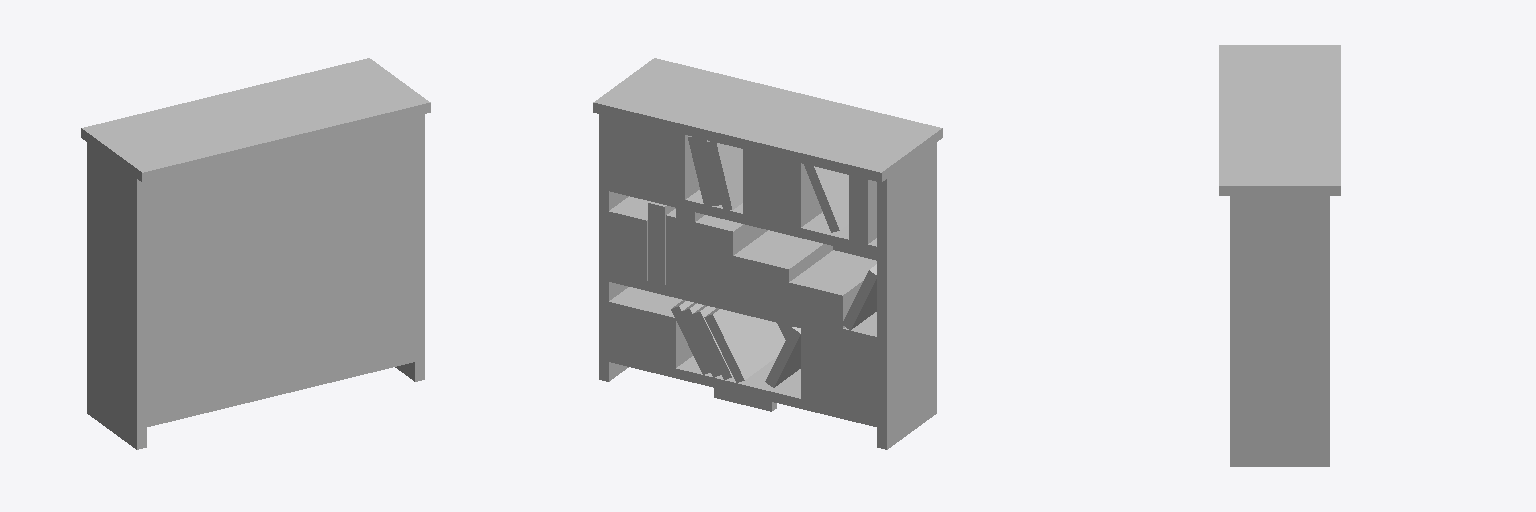
File: book library.obj
3 renders of one model, left to right at view 1: azimuth 30°, elevation 25°; view 2: azimuth 150°, elevation 25°; view 3: azimuth 270°, elevation 25°, orthographic.
Parts seen in each view (by area): view 1: cube; view 2: cube; view 3: cube.
Part boxes in pixels (x1,y1,x2,y2): cube: (81, 58, 430, 449); cube: (593, 58, 942, 449); cube: (1219, 45, 1340, 466).
Size of the model in its own units: 1.88 by 1.75 by 0.6875.